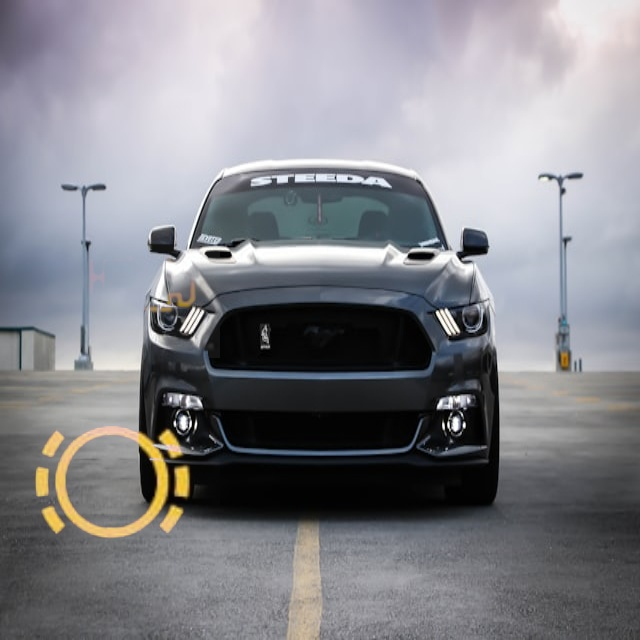symbol: (3, 375, 220, 592), (62, 200, 220, 358)
